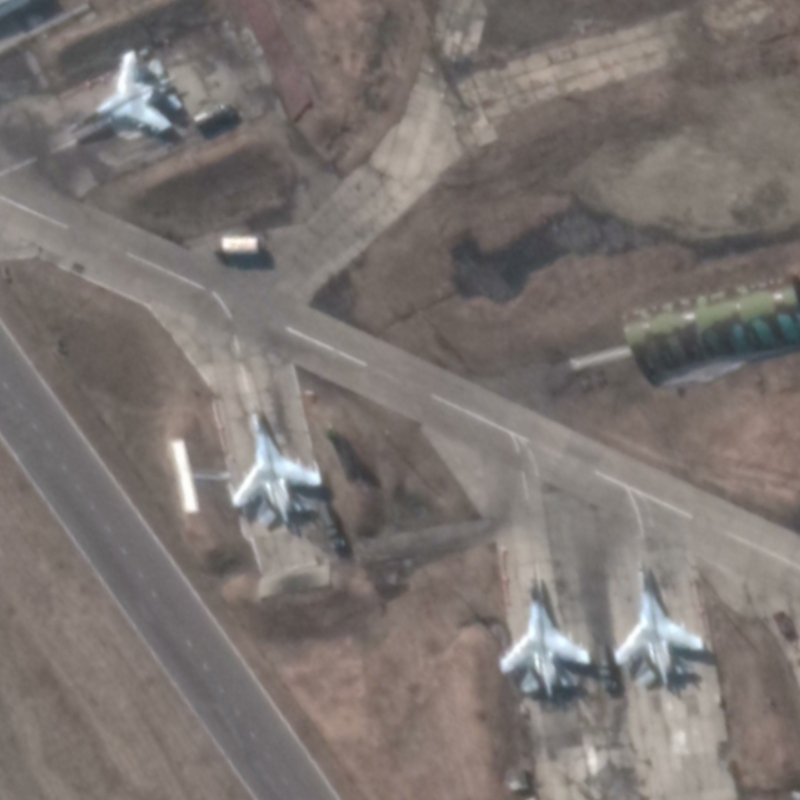A1: (611, 559, 707, 692), (497, 572, 593, 700), (229, 410, 324, 528), (65, 48, 184, 137)
